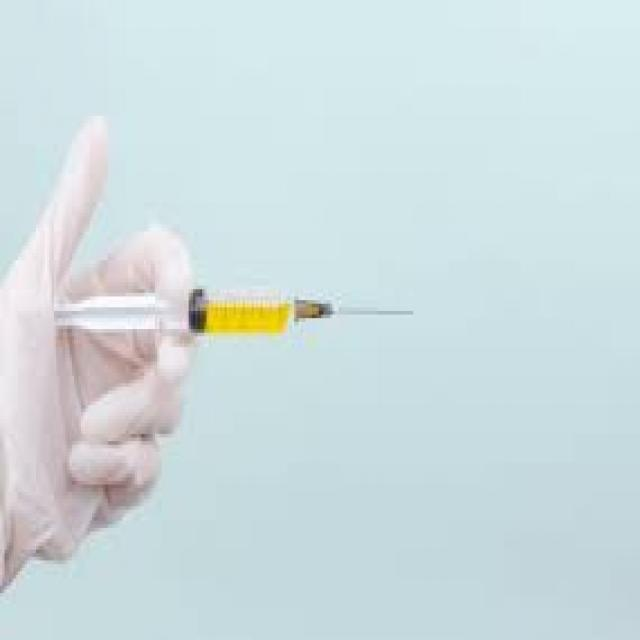syringe: (88, 272, 436, 354)
